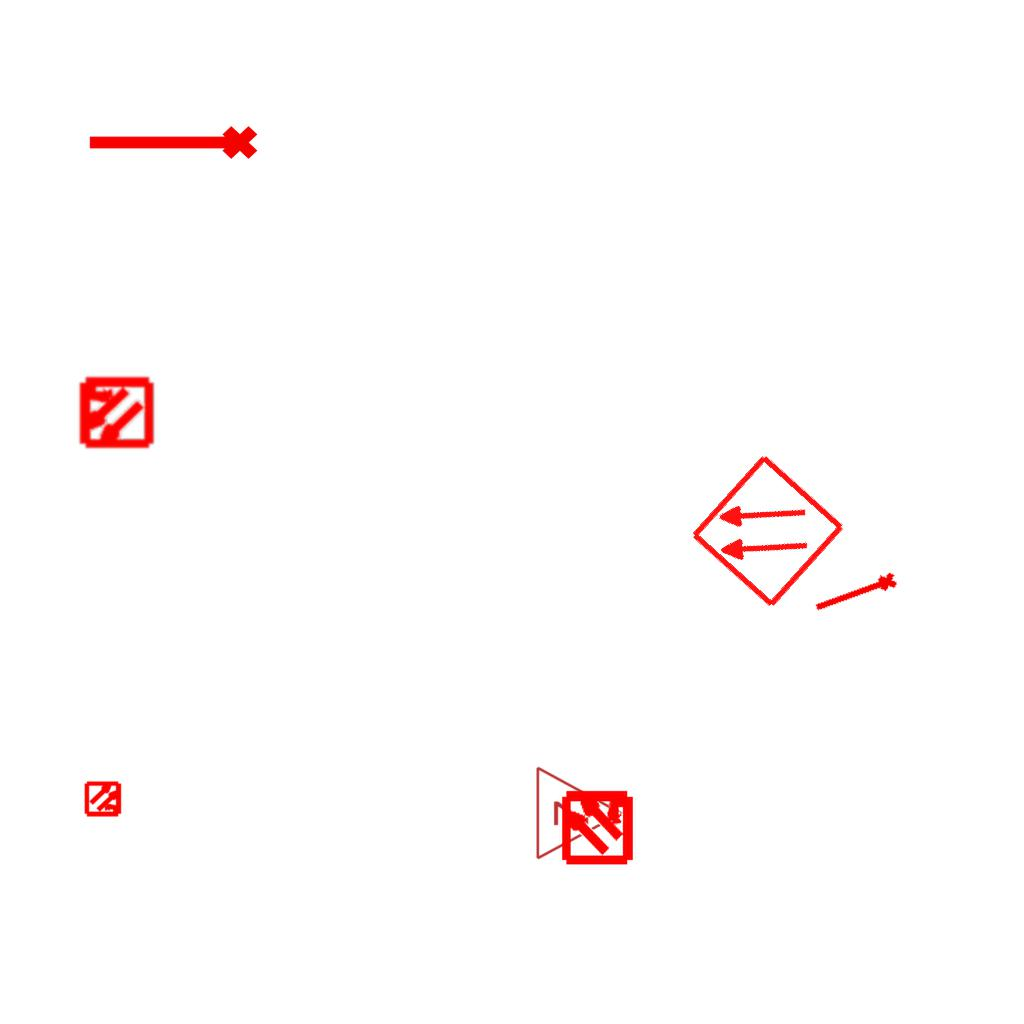ASR_Ansaugoeffnung: (84, 122, 260, 168), (810, 568, 902, 621)
OT_Multisensormelder_(Kombination_RMO_WMD): (58, 356, 171, 469), (541, 769, 654, 882), (76, 771, 132, 827)
RMO_Rauchmelder_optischer: (687, 451, 848, 612)
Zimmersignalleuchte: (529, 763, 629, 861)
